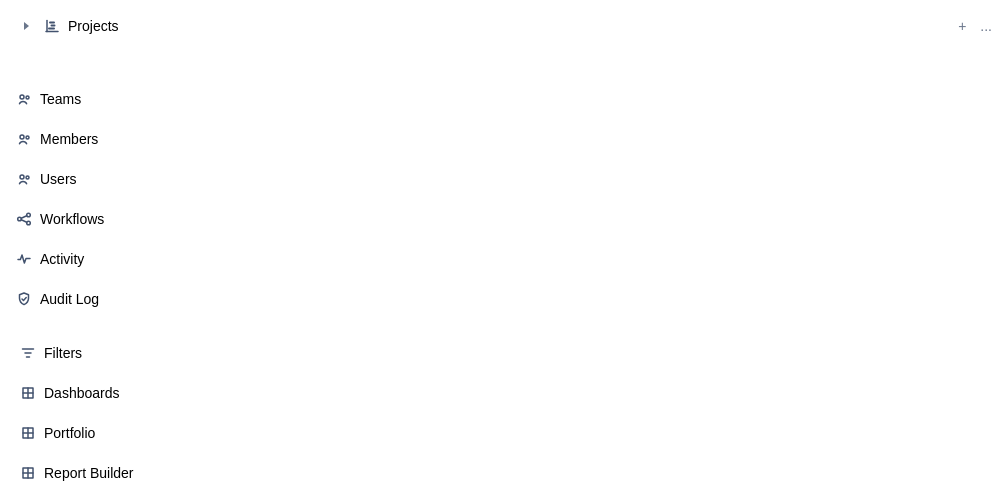
Scenario: JL-279 sidebar a11y › the Projects caret is a real <button> with aria-expanded reflecting state
The image size is (1008, 500).
Step 1. Click the button named "Expand projects" → (26, 26), box [16,16,36,36]
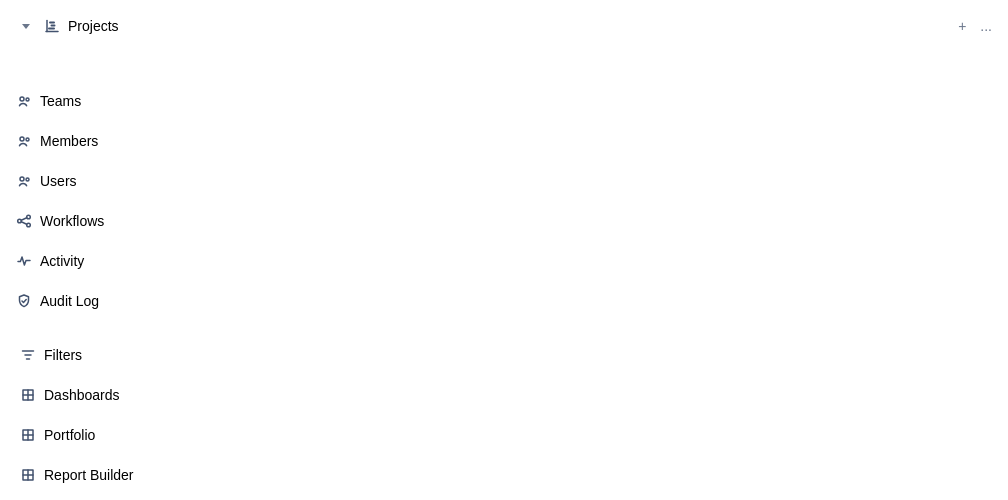
Expected: the button named "Collapse projects" is expanded, [16,16,36,36]
